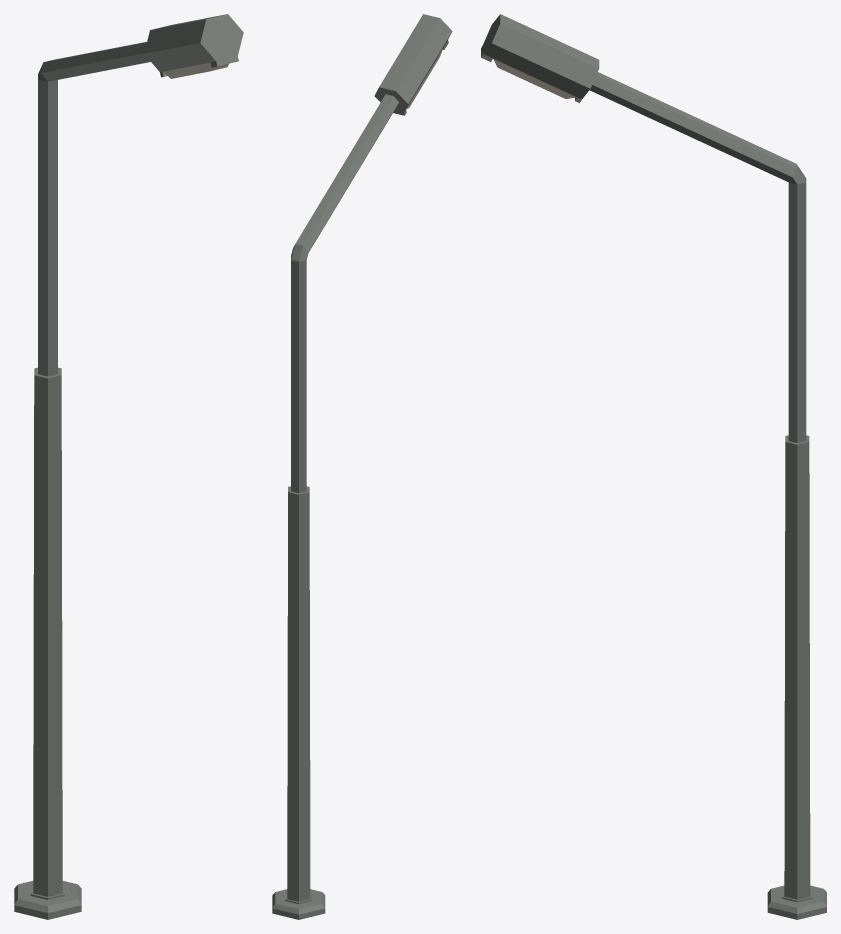
File: Steet Light.fbx
3 renders of one model, left to right at view 1: azimuth 30°, elevation 25°; view 2: azimuth 150°, elevation 25°; view 3: azimuth 270°, elevation 25°, orthographic. The views are drawn at different scales.
Parts seen in each view (by area): view 1: Steet Light; view 2: Steet Light; view 3: Steet Light.
Boxes of the visible parts, x1,y1,x2,y2 form: Steet Light: (14,14,243,919); Steet Light: (272,14,452,919); Steet Light: (481,14,826,919).
Bounding box in the file's own units: 44.36 × 635 × 225.
